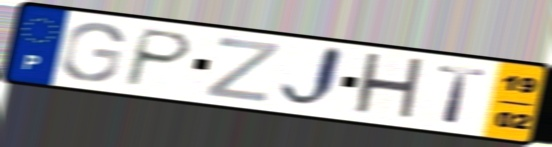G: (58, 21, 128, 84)
H: (350, 50, 428, 125)
J: (275, 43, 348, 112)
P: (120, 26, 197, 89)
T: (435, 63, 490, 126)
Z: (201, 35, 283, 105)
